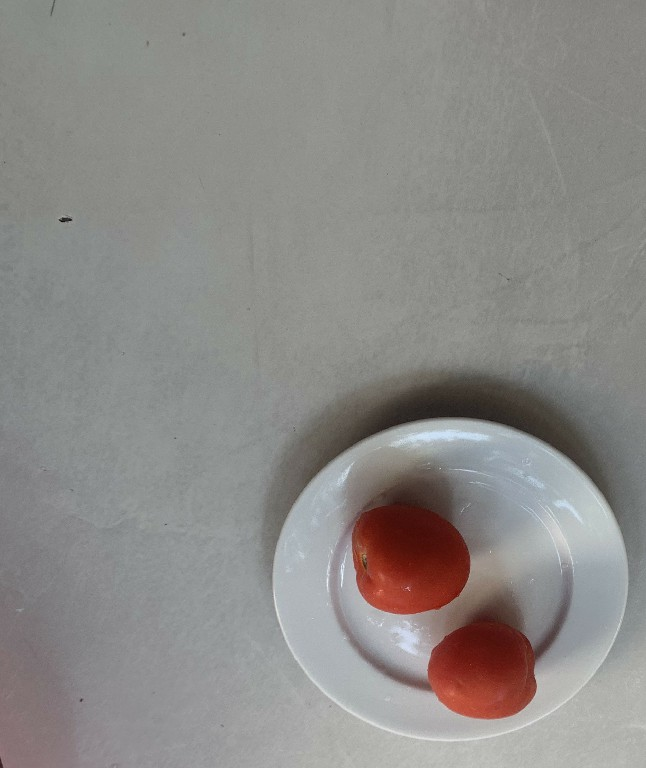OK: (347, 500, 473, 612), (424, 615, 540, 725)
